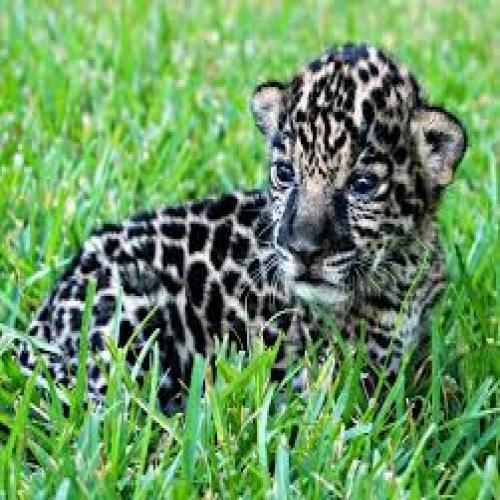jaguar_not-endangered: (27, 41, 468, 400)
